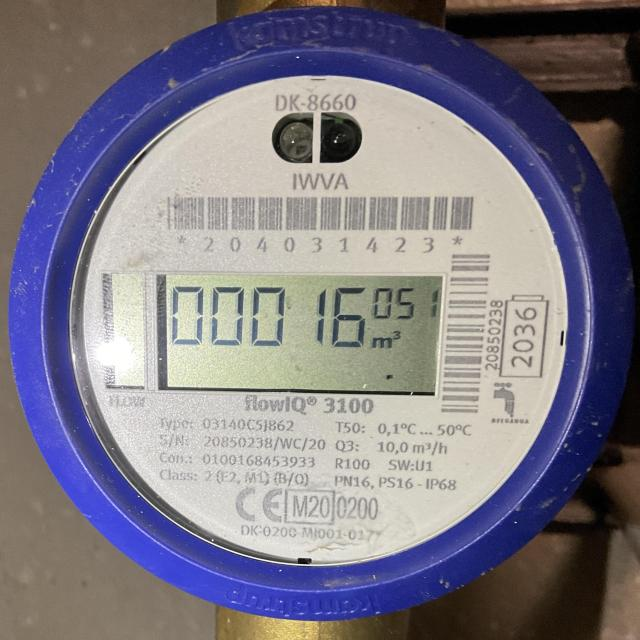gaz_meter: (23, 5, 628, 626)
indication: (161, 273, 444, 395)
